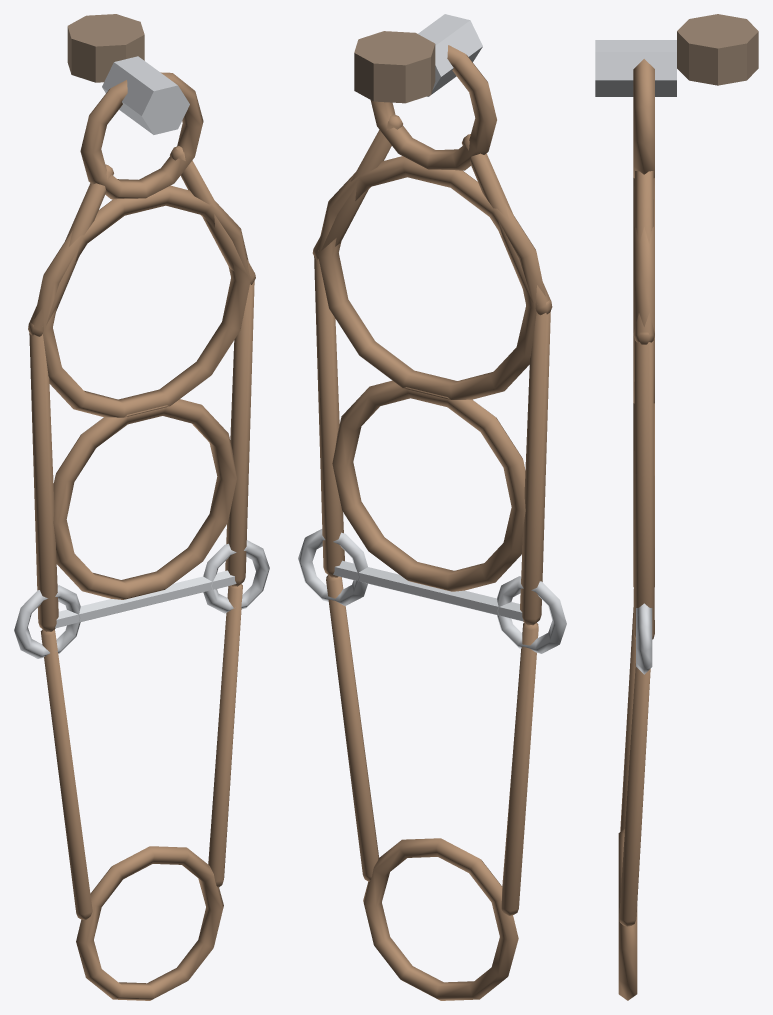
The model's file is bridle-on-hook.glb.
3 renders of one model, left to right at view 1: azimuth 30°, elevation 25°; view 2: azimuth 150°, elevation 25°; view 3: azimuth 270°, elevation 25°, orthographic. The views are drawn at different scales.
Parts seen in each view (by area): view 1: bridle-on-hook; view 2: bridle-on-hook; view 3: bridle-on-hook.
Part boxes in pixels (box(x1,y1,x2,y2)): bridle-on-hook: box(14, 14, 269, 1000); bridle-on-hook: box(298, 14, 566, 1000); bridle-on-hook: box(595, 14, 758, 1000).
Size of the model in its own units: 0.37 by 1.3 by 0.2.
